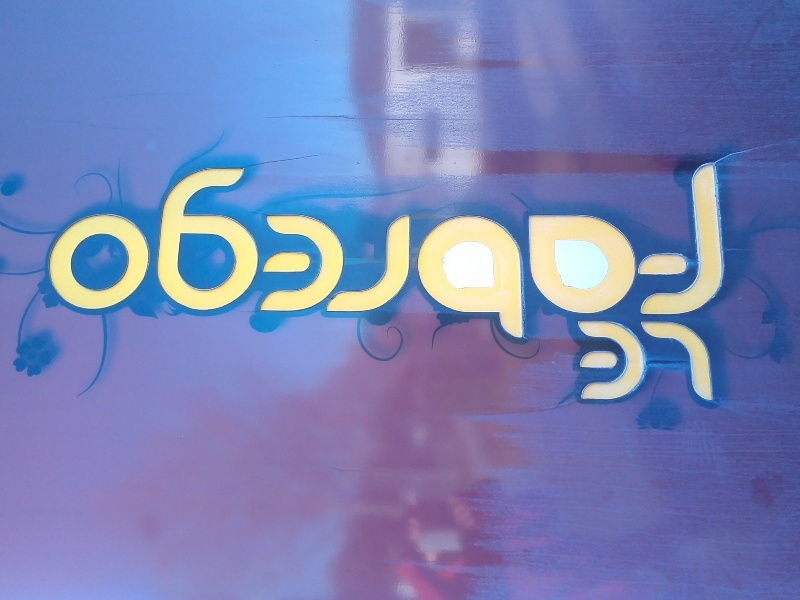text: (65, 162, 80, 341), (81, 162, 96, 341), (97, 162, 112, 341), (113, 162, 128, 341), (129, 162, 144, 341), (145, 162, 160, 341), (161, 162, 176, 341), (177, 162, 192, 341), (193, 162, 208, 341), (209, 162, 224, 341), (225, 162, 240, 341), (241, 162, 256, 341), (257, 162, 272, 341), (273, 162, 288, 341), (289, 162, 304, 341), (305, 162, 320, 341), (321, 162, 336, 341), (337, 162, 352, 341), (353, 162, 368, 341), (369, 162, 384, 341), (385, 162, 400, 341), (401, 162, 416, 341), (417, 162, 432, 341), (433, 162, 448, 341), (449, 162, 464, 341), (465, 162, 480, 341), (481, 162, 496, 341), (497, 162, 512, 341), (513, 162, 528, 341), (529, 162, 544, 341), (545, 162, 560, 341), (561, 162, 576, 341), (577, 162, 592, 341), (593, 162, 608, 341), (609, 162, 624, 341), (625, 162, 640, 341), (641, 162, 656, 341), (657, 162, 672, 341), (673, 162, 688, 341), (689, 162, 704, 341), (705, 162, 720, 341), (52, 162, 64, 341), (721, 162, 732, 341), (577, 320, 592, 402), (593, 320, 608, 402), (609, 320, 624, 402), (625, 320, 640, 402), (641, 320, 656, 402), (657, 320, 672, 402), (673, 320, 688, 402), (689, 320, 704, 402), (705, 320, 717, 402)
